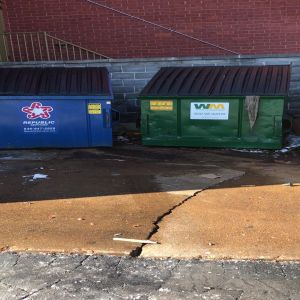Dumpster: (136, 66, 294, 150), (1, 67, 117, 146)
